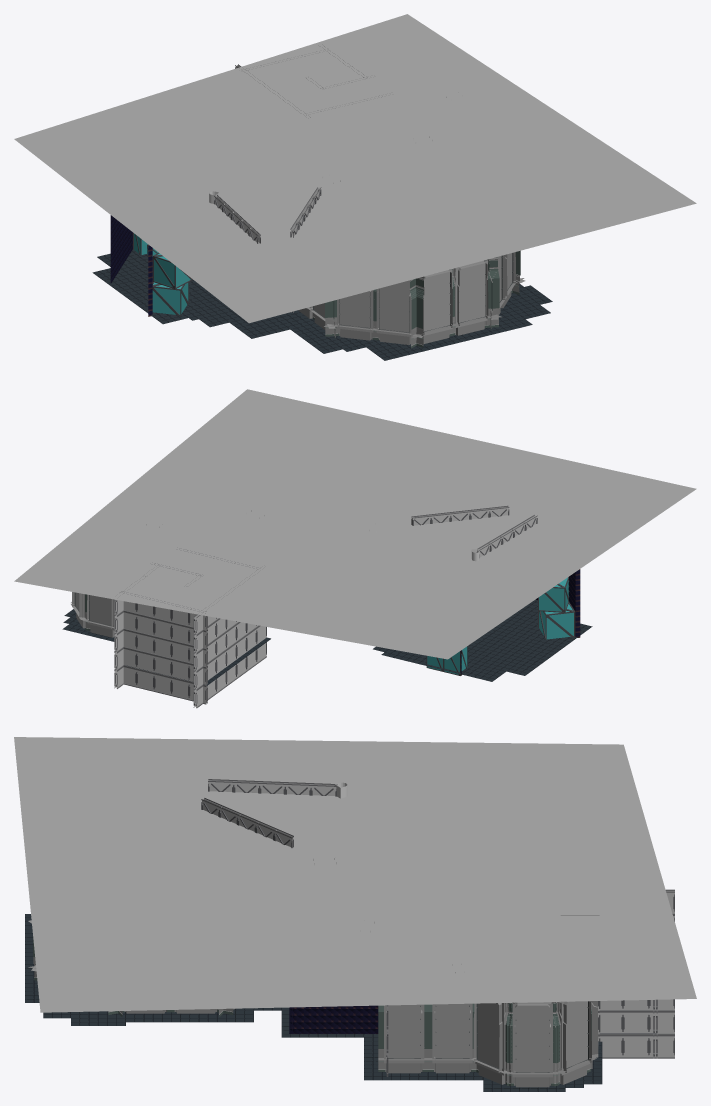
File: Stage7 (5).fbx
3 views of the same model, one above another, from view 1: azimuth 30°, elevation 25°; view 2: azimuth 150°, elevation 25°; view 3: azimuth 270°, elevation 25° (orthographic). The views are drawn at different scales.
Parts seen in each view (by area): view 1: 1000, br, Floor.002; view 2: 1000, br, Floor.002; view 3: 1000, br, Floor.002.
Part boxes in pixels (bbox=[...]): 1000: bbox=[14, 14, 696, 323]; br: bbox=[110, 46, 525, 348]; Floor.002: bbox=[92, 249, 552, 360]; 1000: bbox=[14, 389, 696, 659]; br: bbox=[71, 505, 580, 708]; Floor.002: bbox=[62, 599, 592, 685]; 1000: bbox=[14, 737, 696, 1012]; br: bbox=[28, 779, 674, 1087]; Floor.002: bbox=[25, 914, 656, 1091].
Size of the model in its own units: 44356 by 9609 by 46435.
